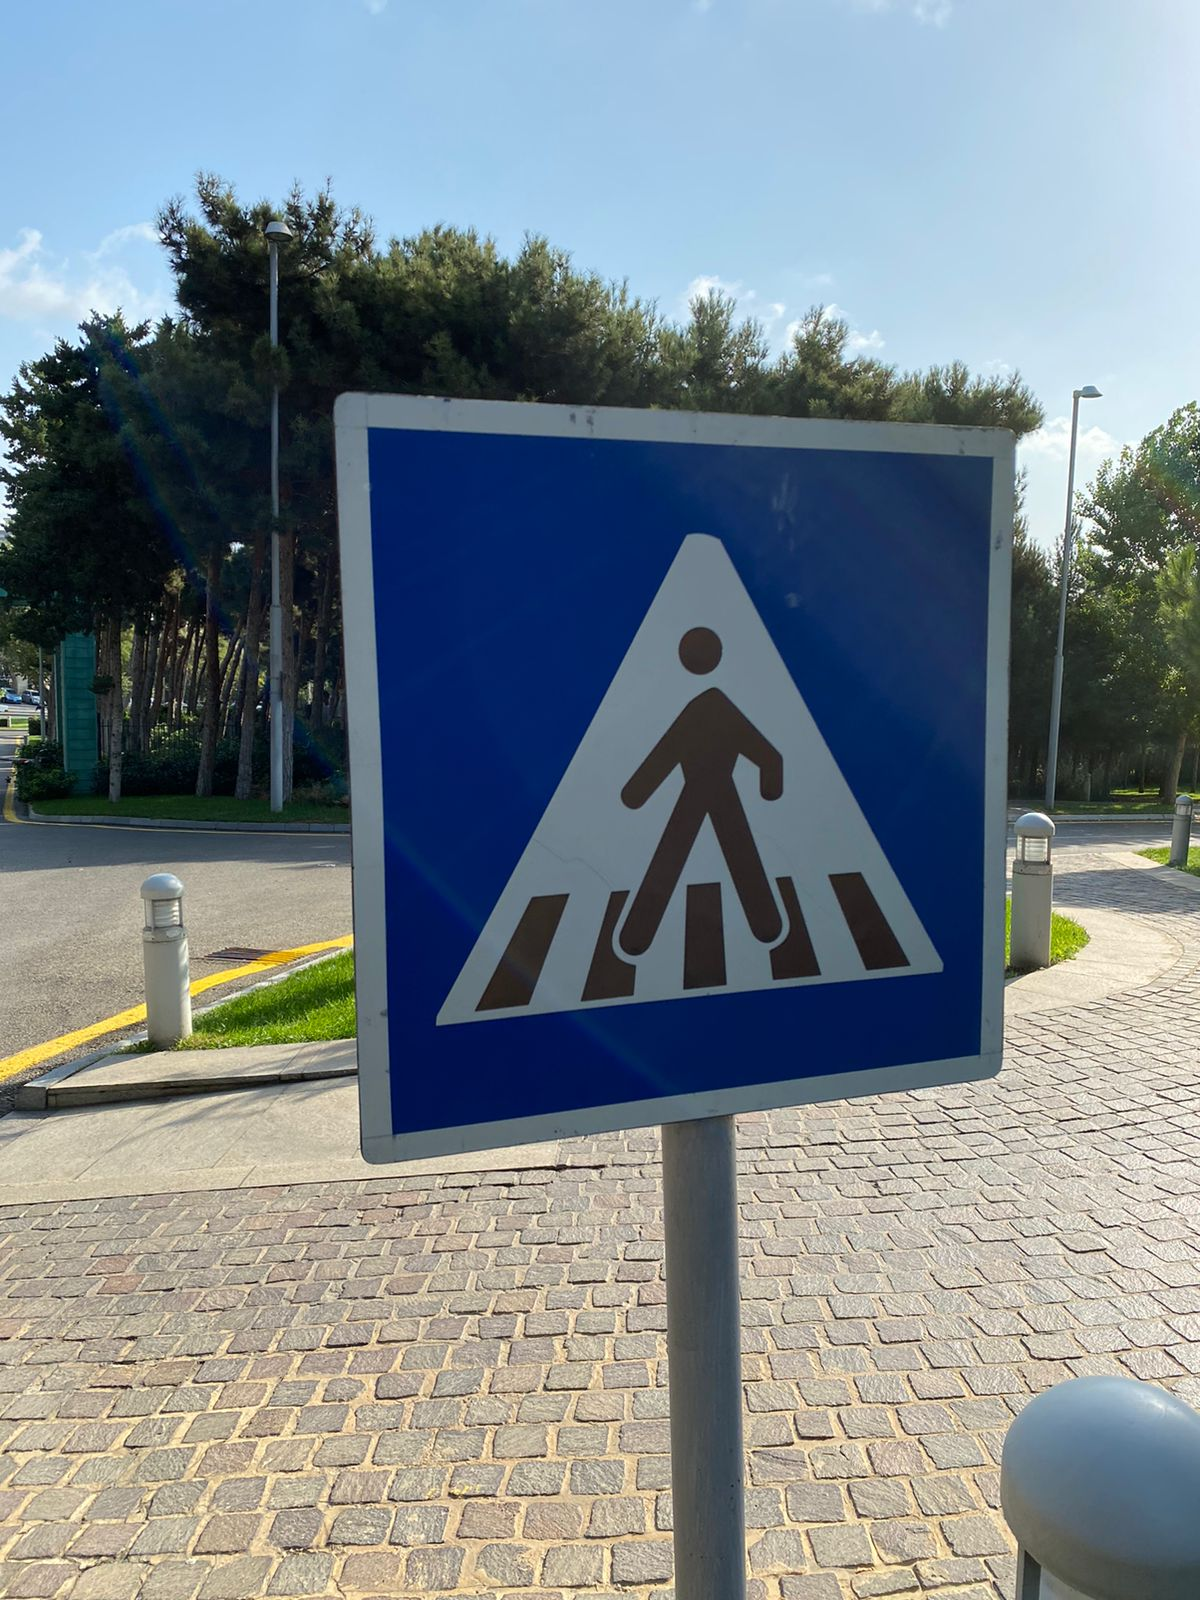Pedestrian Crossing: (335, 391, 1011, 1090)
